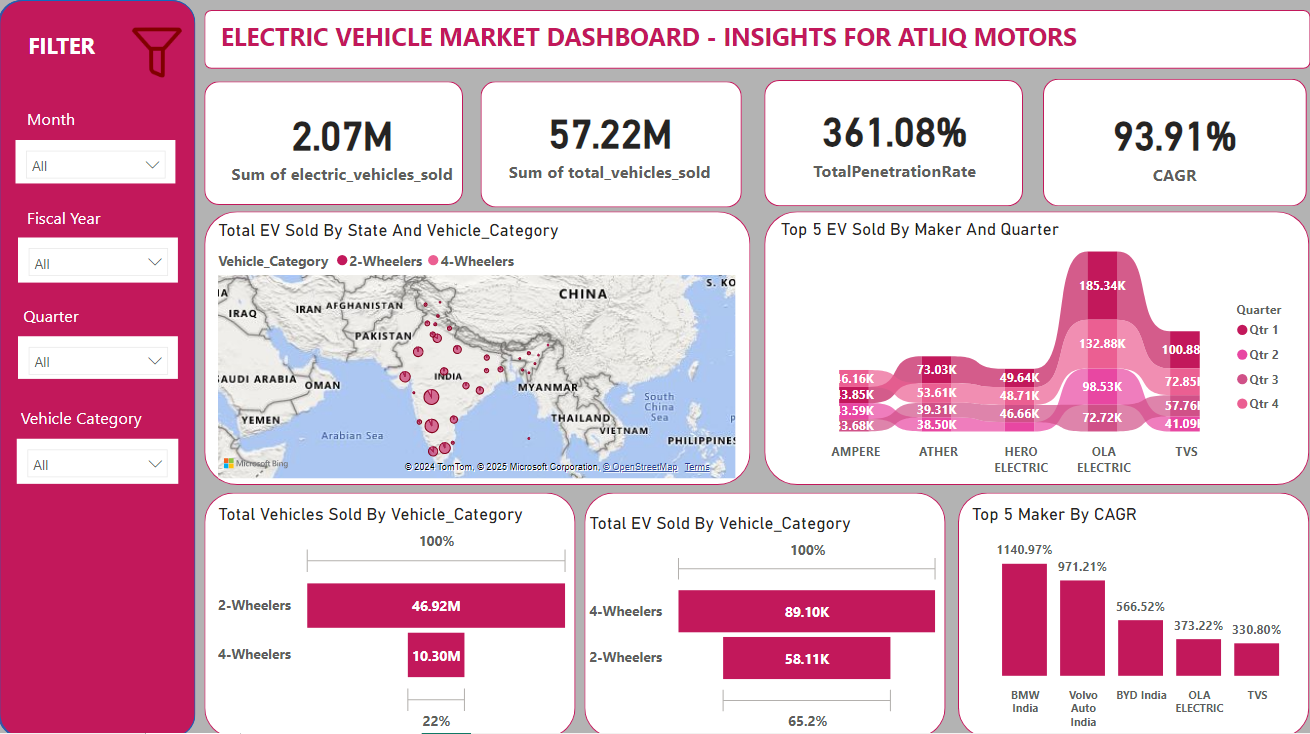

The dashboard page shown, as its layout file describes it:
{"tool":"powerbi","page":{"name":"Dashboard","canvas":[1280,720],"ordinal":0},"visuals":[{"type":"shape","box":[1.2,0,191.5,719.5],"z":0},{"type":"slicer","fields":{"Values":["dim_date.fiscal_year"]},"box":[19.5,231.7,156.1,43.9],"z":1000},{"type":"slicer","fields":{"Values":["dim_date.quarter"]},"box":[19.5,328,156.1,41.5],"z":2000},{"type":"slicer","fields":{"Values":["electric_vehicle_sales_by_makers.vehicle_category"]},"box":[18.3,428,157.3,43.9],"z":3000},{"type":"slicer","fields":{"Values":["dim_date.date.Variation.Date Hierarchy.Month"]},"box":[17.1,136.6,156.1,42.7],"z":5000},{"type":"shape","box":[748.8,76.8,252.4,123.2],"z":6000},{"type":"shape","box":[201.2,9.8,1079.3,57.3],"z":7000},{"type":"shape","box":[476.8,76.8,254.9,123.2],"z":8000},{"type":"shape","box":[201.2,78,252.4,120.7],"z":9000},{"type":"card","fields":{"Values":["electric_vehicle_sales_by_state.TotalPenetrationRate"]},"box":[748.8,74.4,252.4,124.4],"z":10000},{"type":"card","fields":{"Values":["Sum(electric_vehicle_sales_by_state.electric_vehicles_sold)"]},"box":[201.2,78,252.4,120.7],"z":11000},{"type":"card","fields":{"Values":["Sum(electric_vehicle_sales_by_state.total_vehicles_sold)"]},"box":[476.8,78,254.9,122],"z":12000},{"type":"funnel","fields":{"Y":["Sum(electric_vehicle_sales_by_makers.electric_vehicles_sold)"],"Category":["electric_vehicle_sales_by_state.vehicle_category"]},"box":[550,309.8,180.5,90.2],"z":13000},{"type":"shape","box":[201.2,204.9,532.9,267.1],"z":14000},{"type":"shape","box":[201.2,480.5,362.2,239],"z":15000},{"type":"shape","box":[572,480.5,352.4,239],"z":16000},{"type":"columnChart","title":"Total EV Sold By Month and Vehicle_Category","fields":{"Category":["dim_date.date.Variation.Date Hierarchy.Month"],"Y":["Sum(electric_vehicle_sales_by_state.electric_vehicles_sold)"],"Series":["electric_vehicle_sales_by_state.vehicle_category"]},"box":[212.2,213.4,522,258.5],"z":17000},{"type":"shape","box":[936.6,480.5,342.7,239],"z":18000},{"type":"donutChart","title":"Top 3 makers","fields":{"Category":["electric_vehicle_sales_by_makers.maker"],"Y":["Sum(electric_vehicle_sales_by_makers.electric_vehicles_sold)"]},"box":[201.2,491.5,362.2,228],"z":19000},{"type":"donutChart","title":"Bottom 3  makers","fields":{"Category":["electric_vehicle_sales_by_makers.maker"],"Y":["Sum(electric_vehicle_sales_by_makers.electric_vehicles_sold)"]},"box":[580.5,491.5,343.9,228],"z":20000},{"type":"shape","box":[748.8,204.9,531.7,267.1],"z":21000},{"type":"columnChart","title":"Top State Sales ","fields":{"Category":["electric_vehicle_sales_by_state.state"],"Y":["electric_vehicle_sales_by_makers.TopStateSales"]},"box":[945.1,491.5,334.1,228],"z":22000},{"type":"textbox","box":[212.2,14.6,1035.4,52.4],"z":23000},{"type":"shape","box":[1023.2,76.8,257.3,124.4],"z":24000},{"type":"card","fields":{"Values":["electric_vehicle_sales_by_state.CAGRR"]},"box":[1023.2,80.5,257.3,120.7],"z":25000},{"type":"lineChart","title":"Total EV Sold By Month and Fiscal_Year","fields":{"Category":["dim_date.date.Variation.Date Hierarchy.Month"],"Series":["dim_date.fiscal_year"],"Y":["Sum(electric_vehicle_sales_by_makers.electric_vehicles_sold)"]},"box":[753.7,213.4,526.8,258.5],"z":26000},{"type":"textbox","box":[23.2,100,74.4,36.6],"z":27000},{"type":"textbox","box":[23.2,196.3,100,32.9],"z":28000},{"type":"textbox","box":[19.5,291.5,74.4,36.6],"z":29000},{"type":"textbox","box":[17.1,391.5,146.3,36.6],"z":31000},{"type":"textbox","box":[24.4,24.4,98.8,50],"z":31001},{"type":"image","box":[117.1,22,75.6,58.5],"z":31003}]}

Visuals, with their boxes in screenshot pixels (x1, y1, x2, y2), scaled from the page's 1280x720 canvas onto the 1310x734 screenshot:
shape: (1, 0, 197, 733)
slicer - dim_date.fiscal_year: (20, 236, 180, 281)
slicer - dim_date.quarter: (20, 334, 180, 377)
slicer - electric_vehicle_sales_by_makers.vehicle_category: (19, 436, 180, 481)
slicer - dim_date.date.Variation.Date Hierarchy.Month: (18, 139, 177, 183)
shape: (766, 78, 1025, 204)
shape: (206, 10, 1309, 68)
shape: (488, 78, 749, 204)
shape: (206, 80, 464, 203)
card - electric_vehicle_sales_by_state.TotalPenetrationRate: (766, 76, 1025, 203)
card - Sum(electric_vehicle_sales_by_state.electric_vehicles_sold): (206, 80, 464, 203)
card - Sum(electric_vehicle_sales_by_state.total_vehicles_sold): (488, 80, 749, 204)
funnel - Sum(electric_vehicle_sales_by_makers.electric_vehicles_sold) x electric_vehicle_sales_by_state.vehicle_category: (563, 316, 748, 408)
shape: (206, 209, 751, 481)
shape: (206, 490, 577, 733)
shape: (585, 490, 946, 733)
"Total EV Sold By Month and Vehicle_Category" columnChart: (217, 218, 751, 481)
shape: (959, 490, 1309, 733)
"Top 3 makers" donutChart: (206, 501, 577, 733)
"Bottom 3  makers" donutChart: (594, 501, 946, 733)
shape: (766, 209, 1309, 481)
"Top State Sales " columnChart: (967, 501, 1309, 733)
textbox: (217, 15, 1277, 68)
shape: (1047, 78, 1309, 205)
card - electric_vehicle_sales_by_state.CAGRR: (1047, 82, 1309, 205)
"Total EV Sold By Month and Fiscal_Year" lineChart: (771, 218, 1309, 481)
textbox: (24, 102, 100, 139)
textbox: (24, 200, 126, 234)
textbox: (20, 297, 96, 334)
textbox: (18, 399, 167, 436)
textbox: (25, 25, 126, 76)
image: (120, 22, 197, 82)
